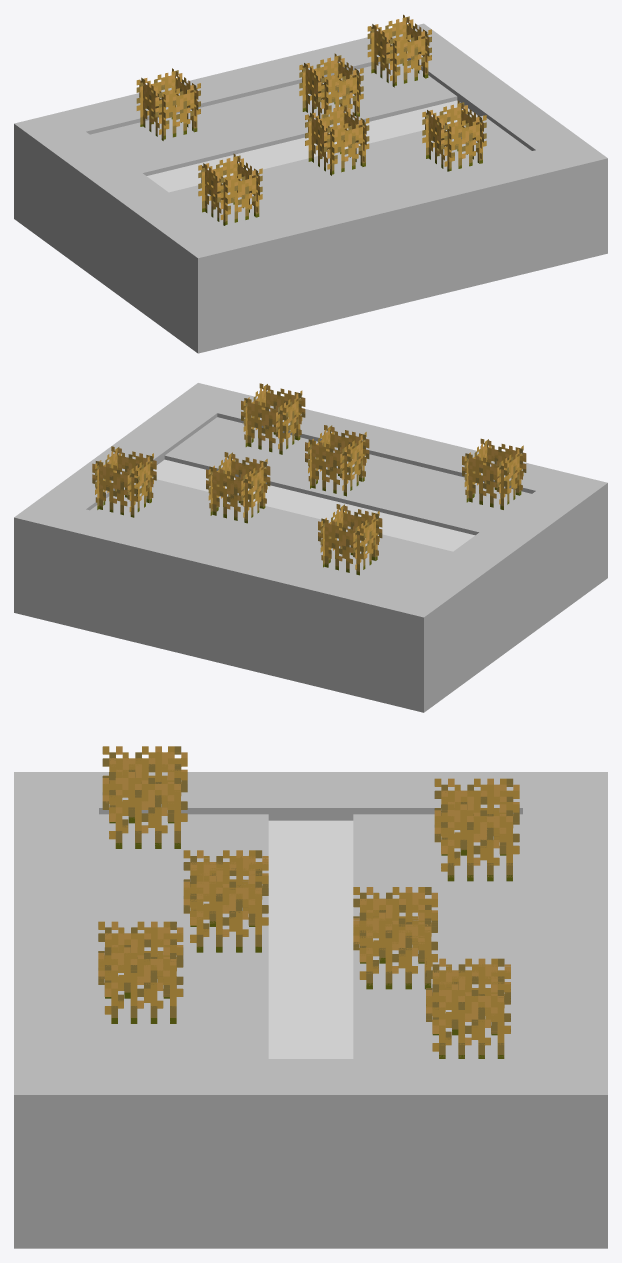
Rendered from garden_bed.fbx.
The picture shows the model from 3 angles, top to bottom: view 1: azimuth 30°, elevation 25°; view 2: azimuth 150°, elevation 25°; view 3: azimuth 270°, elevation 25°; orthographic projection. The views are drawn at different scales.
Visible parts, largest first — view 1: garden_bed; view 2: garden_bed; view 3: garden_bed.
Boxes of the visible parts, bbox=[...] form: garden_bed: bbox=[14, 14, 607, 353]; garden_bed: bbox=[14, 383, 607, 712]; garden_bed: bbox=[14, 746, 607, 1248].
Size of the model in its own units: 900 by 292 by 700.
